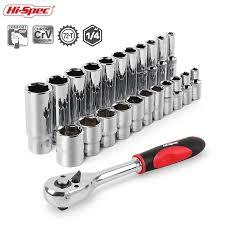wrench: (41, 135, 205, 211)
